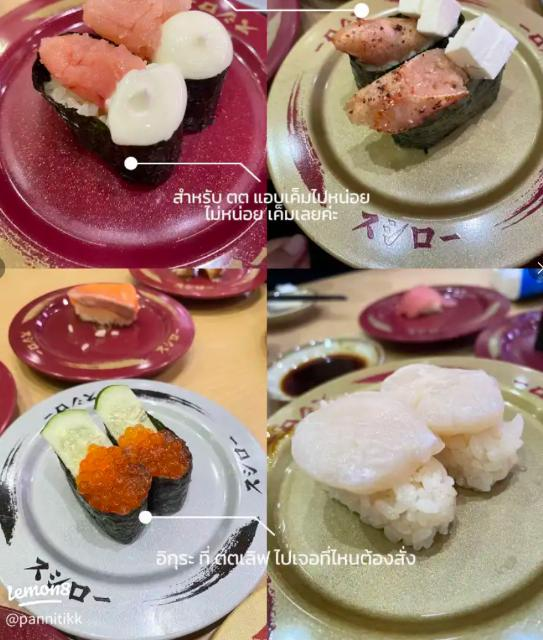jangold: (274, 385, 543, 638), (281, 36, 543, 263)
janred: (13, 8, 248, 261), (22, 266, 178, 381), (132, 255, 279, 319), (349, 288, 494, 337), (472, 312, 543, 371), (0, 349, 22, 435), (266, 0, 293, 62)
janwhite: (17, 390, 263, 640)
